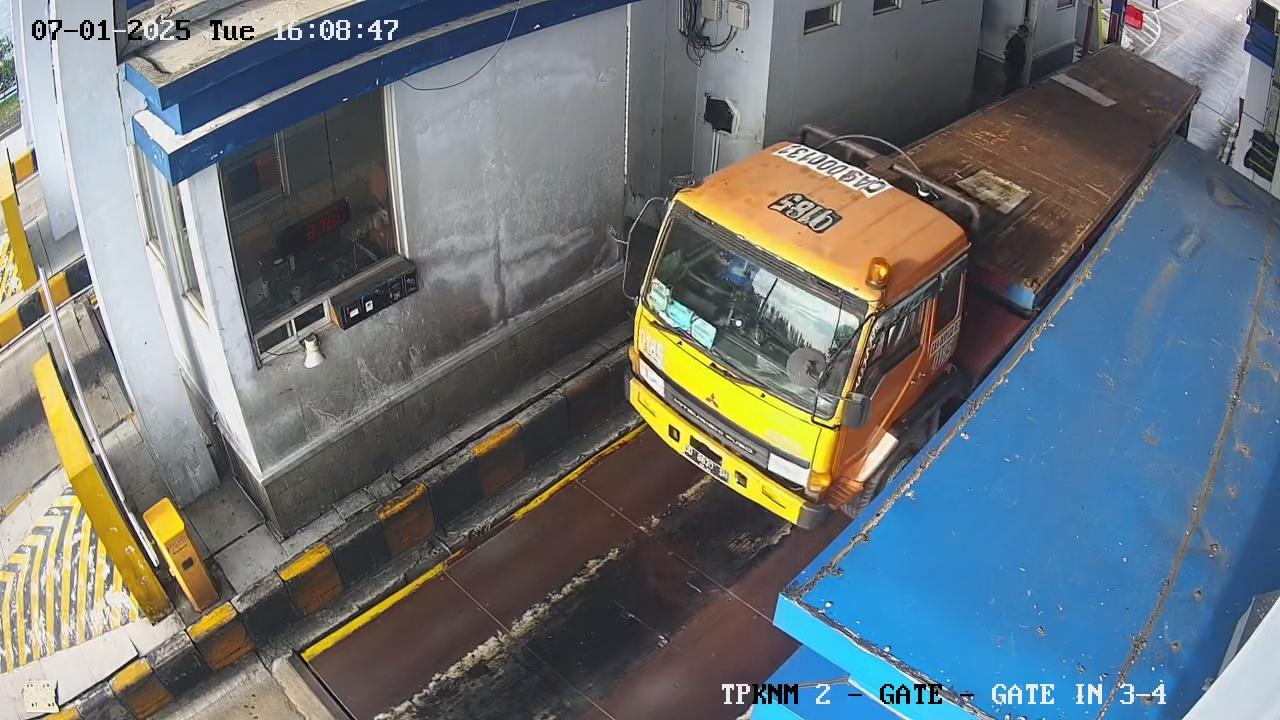truck_id: (774, 145, 893, 198)
